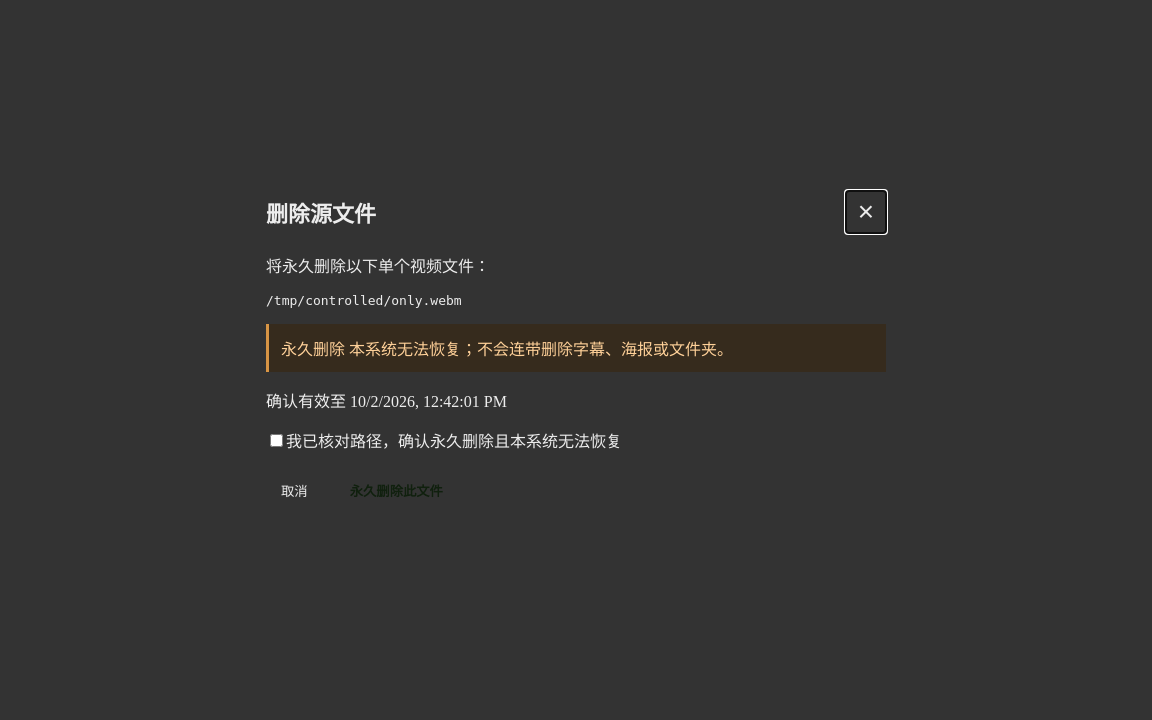
Scenario: partial/unknown delete has a terminal non-retry result: {"fileOutcome":"unknown","indexOutcome":"pending","message":"核对文件","retryable":false,"requestId":"r"}
The width and height of the screenshot is (1152, 720).
Expected: the text "/tmp/controlled/only.webm" is shown, [266, 293, 462, 308]
Click the checkbox: click(276, 440) [270, 434, 283, 447]
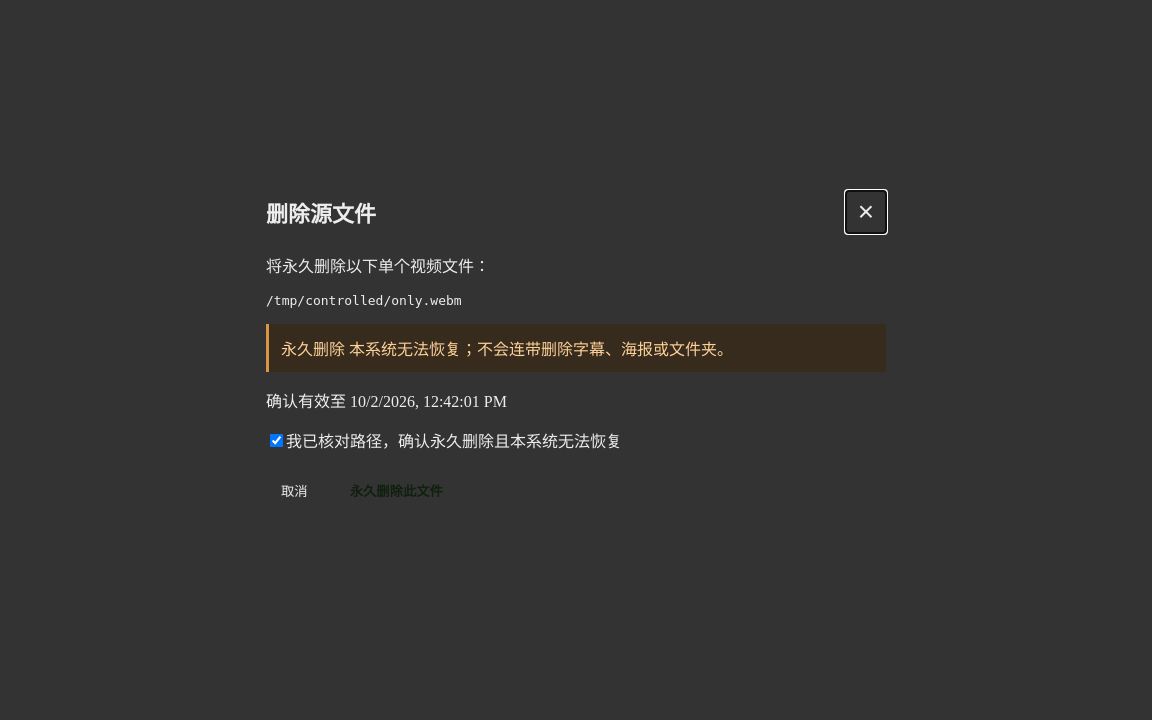
Click the button "永久删除此文件": click(396, 490) [335, 472, 458, 509]
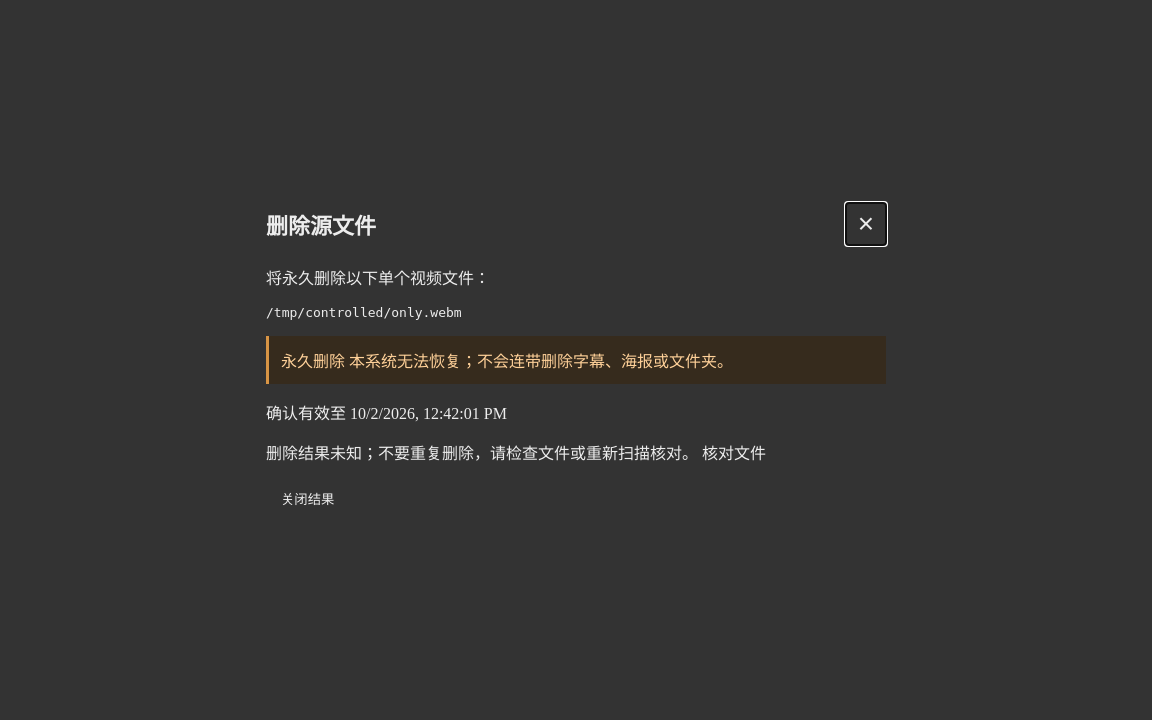
Expected: the text "删除结果未知；不要重复删除，请检查文件或重新扫描核对。 核对文件" is shown, [266, 445, 766, 462]
Expected: the button "永久删除此文件" is gone
